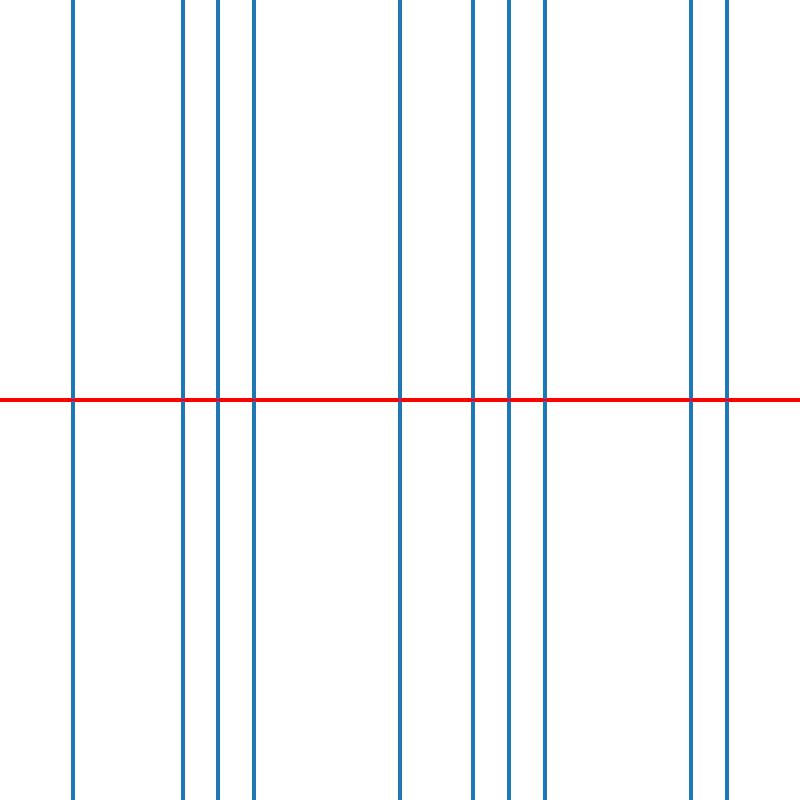root: (541, 396, 549, 404), (250, 396, 258, 404), (396, 396, 403, 404), (723, 396, 730, 404), (69, 396, 76, 404), (214, 396, 221, 404), (505, 396, 512, 404), (469, 396, 476, 404), (687, 396, 694, 404), (178, 396, 185, 404)
